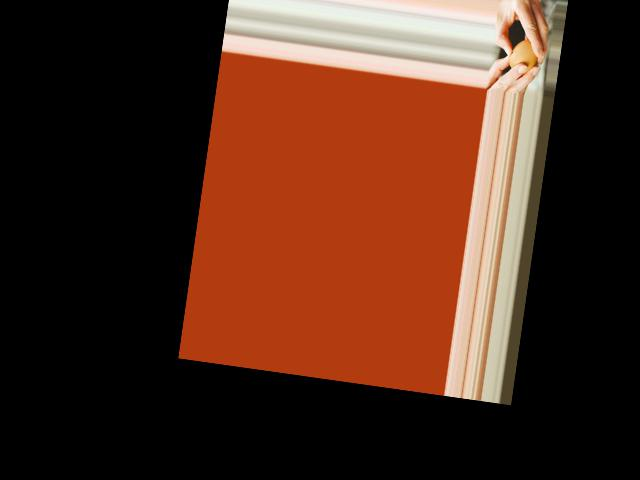egg: (507, 38, 540, 76)
